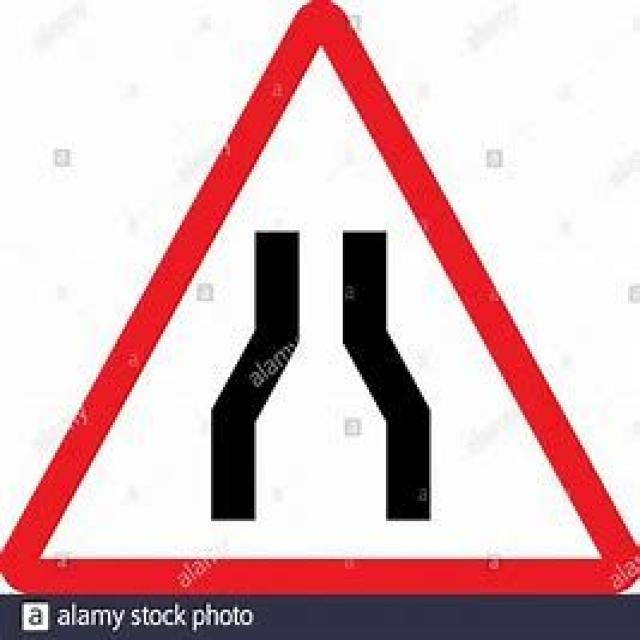narrow_road: (0, 0, 638, 592)
